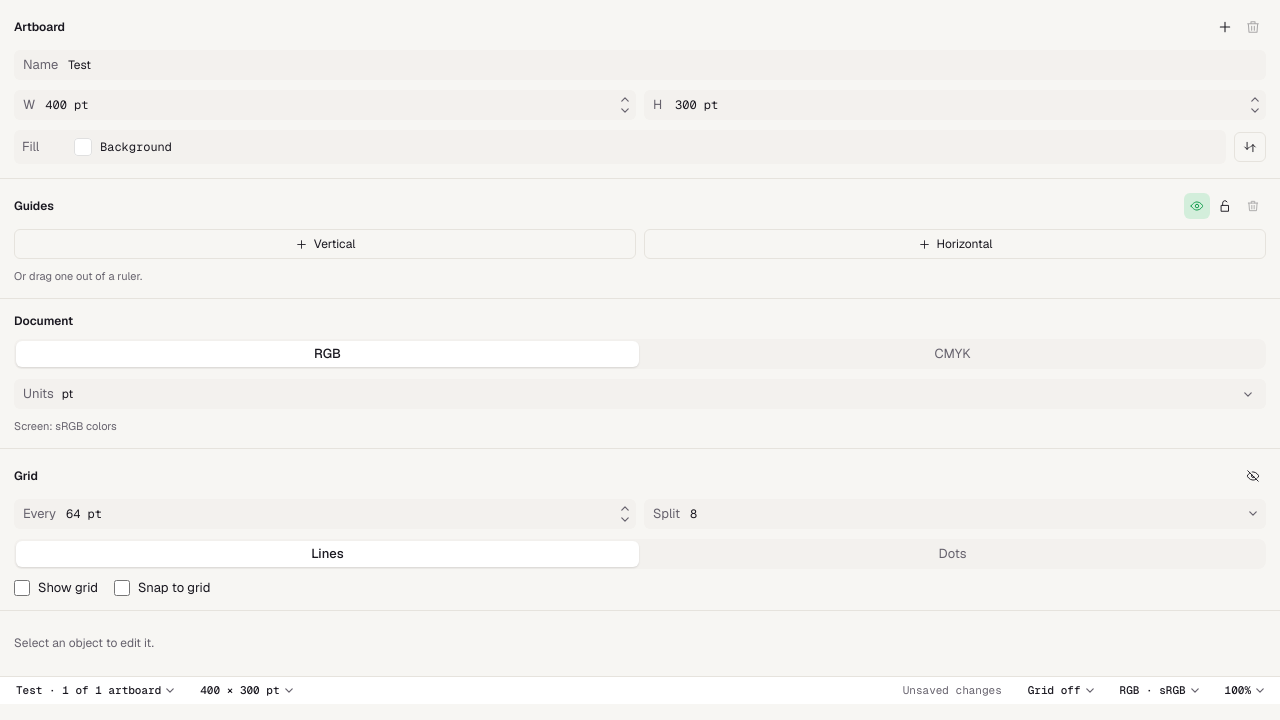
Test: color mode UI › switches the document from the inspector and shows it in the status bar
The image size is (1280, 720).
Check: the button "RGB · sRGB" is shown, box [1116, 681, 1203, 700]
What coordinates should you click on to do the following:
click the radio button labelled "CMYK"
I would click on:
 (952, 354)
Its box is [641, 341, 1264, 367].
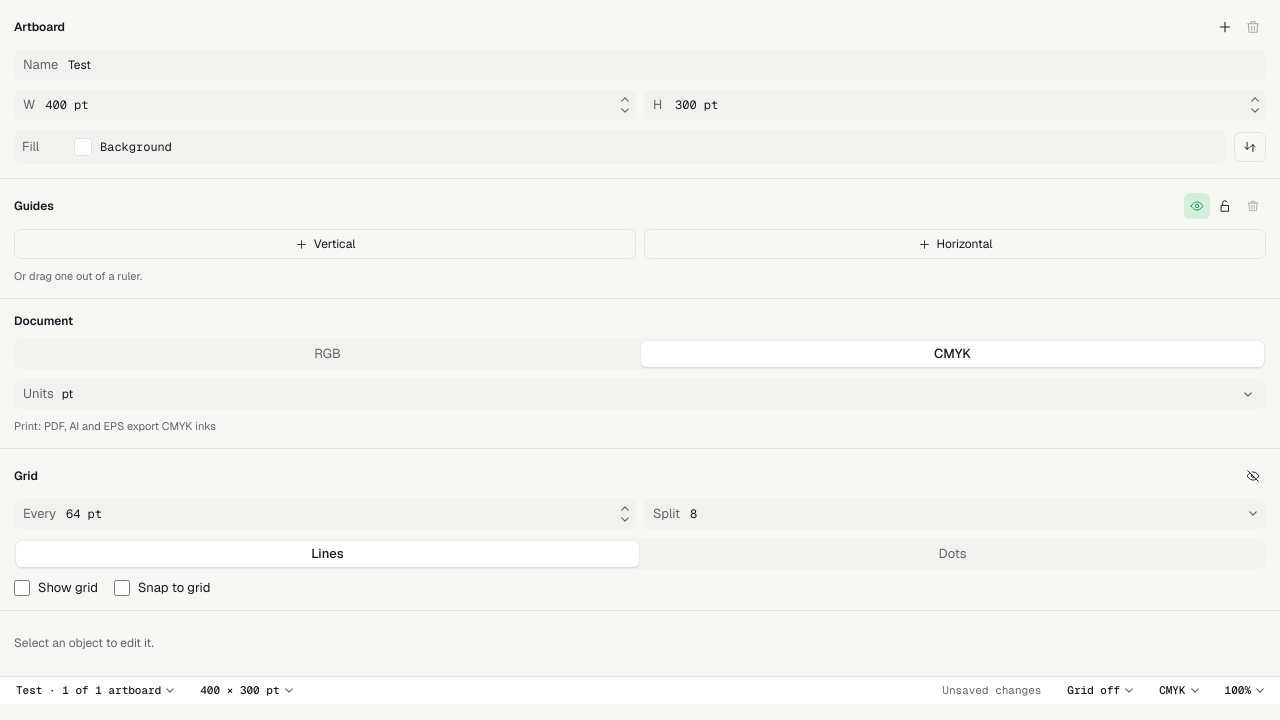
Check: the number of radio buttons "CMYK" is 2, box [641, 341, 1264, 367]; [1155, 681, 1203, 700]
Check: the button "RGB · sRGB" is gone
